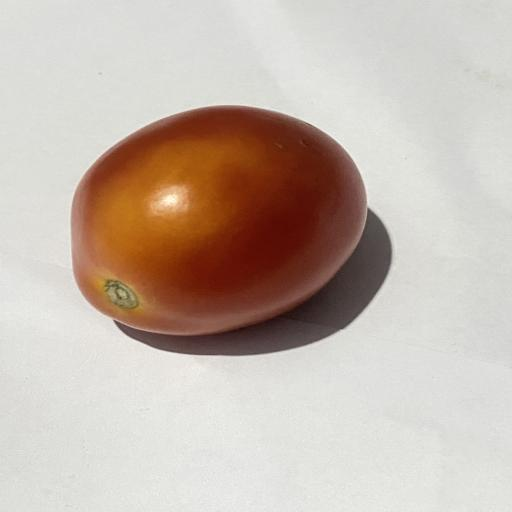ripe: (71, 106, 367, 335)
